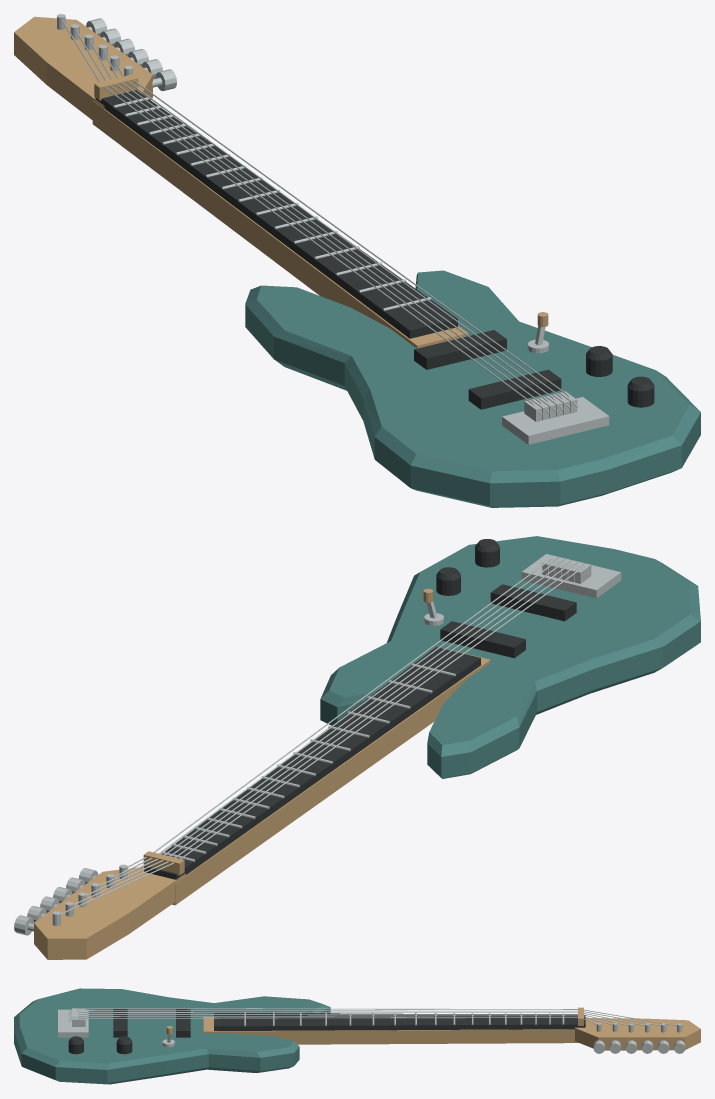
3 views of the same model, one above another, from view 1: azimuth 30°, elevation 25°; view 2: azimuth 150°, elevation 25°; view 3: azimuth 270°, elevation 25° (orthographic). The views are drawn at different scales.
Visible parts, largest first — view 1: WholeGroundFootSolidDoubleCutawayBody, WholeDarkTaperedFingerboard, WholeTaperedNeckAndBodyHeel, WholeOffsetSixInlinePeghead, WholeBridgeMountingPlate, WholePickupBlock_Bridge, WholePickupBlock_Neck, WholeBridgeNutAndPegString_0, WholeBridgeNutAndPegString_1, WholeBridgeNutAndPegString_2, WholeBridgeNutAndPegString_3, WholeBridgeNutAndPegString_4 (+3 smaller); view 2: WholeGroundFootSolidDoubleCutawayBody, WholeDarkTaperedFingerboard, WholeOffsetSixInlinePeghead, WholeTaperedNeckAndBodyHeel, WholeBridgeMountingPlate, WholePickupBlock_Bridge, WholePickupBlock_Neck, WholeBridgeNutAndPegString_0, WholeBridgeNutAndPegString_1, WholeBridgeNutAndPegString_2, WholeBridgeNutAndPegString_3, WholeBridgeNutAndPegString_4 (+3 smaller); view 3: WholeGroundFootSolidDoubleCutawayBody, WholeDarkTaperedFingerboard, WholeTaperedNeckAndBodyHeel, WholeOffsetSixInlinePeghead, WholeBridgeNutAndPegString_1, WholeBridgeNutAndPegString_0, WholeBridgeNutAndPegString_4, WholeBridgeNutAndPegString_5, WholeBridgeMountingPlate, WholeBridgeNutAndPegString_2, WholeBridgeNutAndPegString_3, WholePickupBlock_Neck (+3 smaller).
Boxes of the visible parts, <box> form: WholeGroundFootSolidDoubleCutawayBody: <box>245,270,700,507</box>; WholeDarkTaperedFingerboard: <box>95,90,457,338</box>; WholeTaperedNeckAndBodyHeel: <box>92,100,468,348</box>; WholeOffsetSixInlinePeghead: <box>14,16,152,119</box>; WholeBridgeMountingPlate: <box>502,397,609,444</box>; WholePickupBlock_Bridge: <box>468,369,561,409</box>; WholePickupBlock_Neck: <box>414,330,506,369</box>; WholeBridgeNutAndPegString_0: <box>61,20,542,415</box>; WholeBridgeNutAndPegString_1: <box>75,30,549,414</box>; WholeBridgeNutAndPegString_2: <box>89,40,556,412</box>; WholeBridgeNutAndPegString_3: <box>103,50,563,410</box>; WholeBridgeNutAndPegString_4: <box>115,61,570,408</box>; WholeGroundFootSolidDoubleCutawayBody: <box>320,536,700,778</box>; WholeDarkTaperedFingerboard: <box>144,647,480,879</box>; WholeOffsetSixInlinePeghead: <box>34,866,185,959</box>; WholeTaperedNeckAndBodyHeel: <box>172,648,490,905</box>; WholeBridgeMountingPlate: <box>521,554,621,598</box>; WholePickupBlock_Bridge: <box>490,584,576,621</box>; WholePickupBlock_Neck: <box>440,621,525,658</box>; WholeBridgeNutAndPegString_0: <box>61,565,591,914</box>; WholeBridgeNutAndPegString_1: <box>74,565,578,904</box>; WholeBridgeNutAndPegString_2: <box>86,563,572,895</box>; WholeBridgeNutAndPegString_3: <box>99,561,565,885</box>; WholeBridgeNutAndPegString_4: <box>114,560,559,876</box>; WholeGroundFootSolidDoubleCutawayBody: <box>14,988,330,1084</box>; WholeDarkTaperedFingerboard: <box>214,1013,585,1030</box>; WholeTaperedNeckAndBodyHeel: <box>203,1017,578,1044</box>; WholeOffsetSixInlinePeghead: <box>574,1018,700,1050</box>; WholeBridgeNutAndPegString_1: <box>68,1010,660,1025</box>; WholeBridgeNutAndPegString_0: <box>68,1008,676,1025</box>; WholeBridgeNutAndPegString_4: <box>68,1015,612,1025</box>; WholeBridgeNutAndPegString_5: <box>68,1017,596,1024</box>; WholeBridgeMountingPlate: <box>58,1009,88,1037</box>; WholeBridgeNutAndPegString_2: <box>68,1012,644,1025</box>; WholeBridgeNutAndPegString_3: <box>68,1014,628,1025</box>; WholePickupBlock_Neck: <box>176,1009,190,1037</box>.
Bounding box in the file's own units: 0.363 × 0.085 × 1.32.
